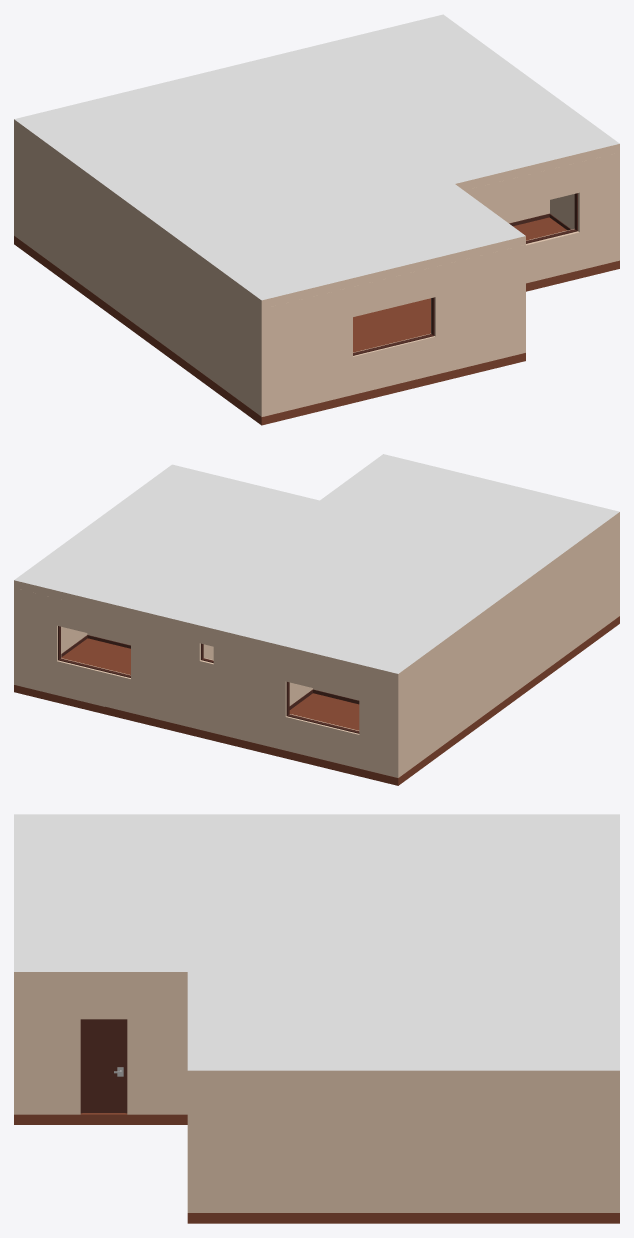
The model's file is Casa2.fbx.
3 views of the same model, one above another, from view 1: azimuth 30°, elevation 25°; view 2: azimuth 150°, elevation 25°; view 3: azimuth 270°, elevation 25° (orthographic). The views are drawn at different scales.
Visible parts, largest first — view 1: Ground, Walls, Ground.001; view 2: Ground, Walls, Ground.001; view 3: Ground, Walls, Ground.001, Door, Door Frame.006.
Part boxes in pixels (left/top/right/bottom): Ground: left=14, top=14, right=619, bottom=308; Walls: left=14, top=128, right=619, bottom=416; Ground.001: left=14, top=217, right=619, bottom=425; Ground: left=14, top=454, right=619, bottom=681; Walls: left=14, top=520, right=619, bottom=777; Ground.001: left=14, top=616, right=619, bottom=785; Ground: left=14, top=814, right=619, bottom=1081; Walls: left=14, top=982, right=619, bottom=1212; Ground.001: left=14, top=1113, right=619, bottom=1223; Door: left=82, top=1019, right=125, bottom=1112; Door Frame.006: left=80, top=1019, right=127, bottom=1113.
Size of the model in its own units: 1040 by 289 by 1039.
1 material, 1 textured.
